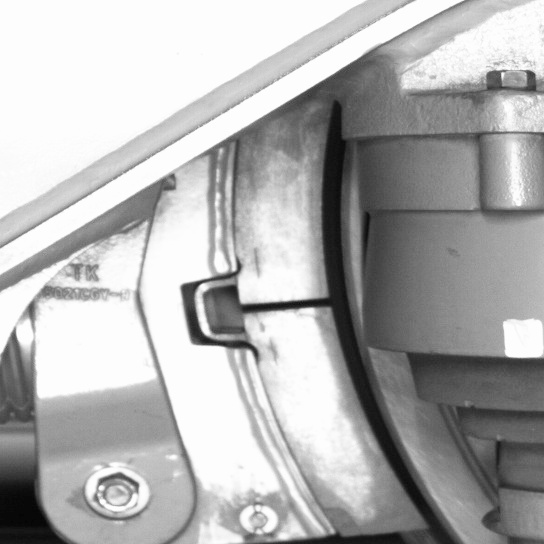KnifeSwitch: (234, 132, 466, 542)
